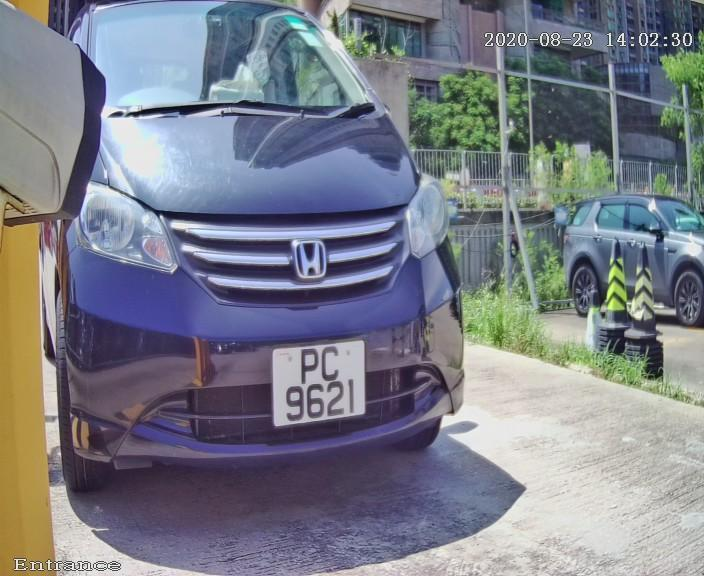Car: (10, 3, 481, 533)
License Plate: (261, 330, 368, 435)
